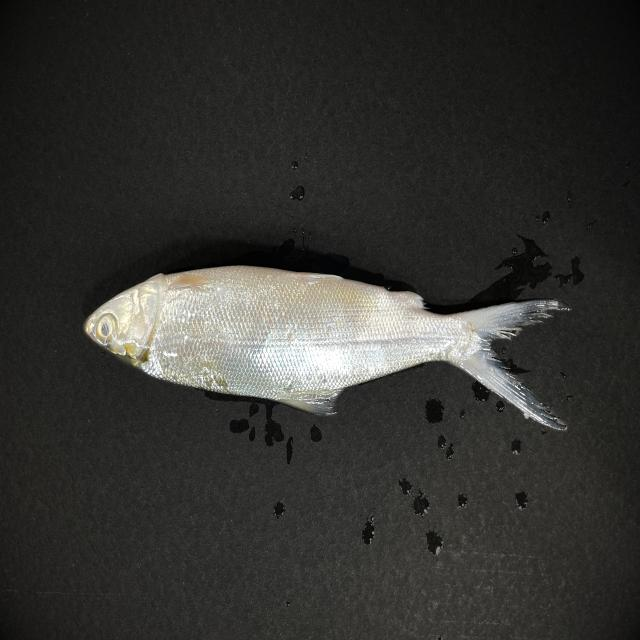320 g: (82, 263, 572, 435)
